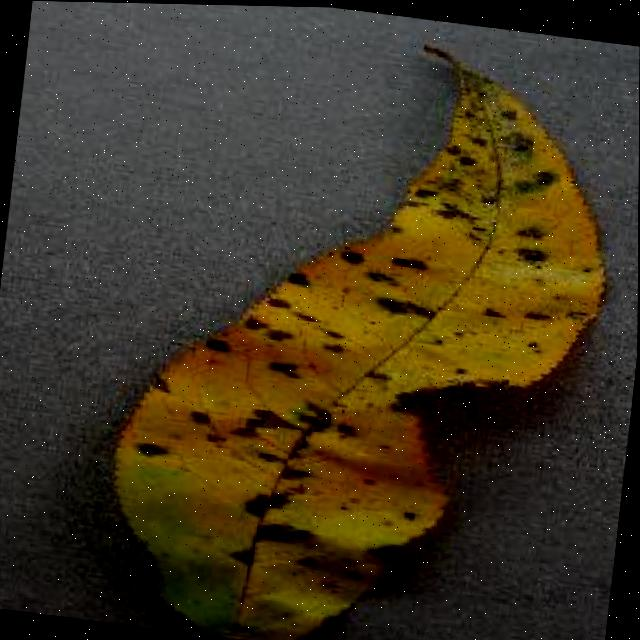Bacterial_spot: (109, 342, 446, 633), (200, 210, 580, 428), (407, 42, 616, 304)
